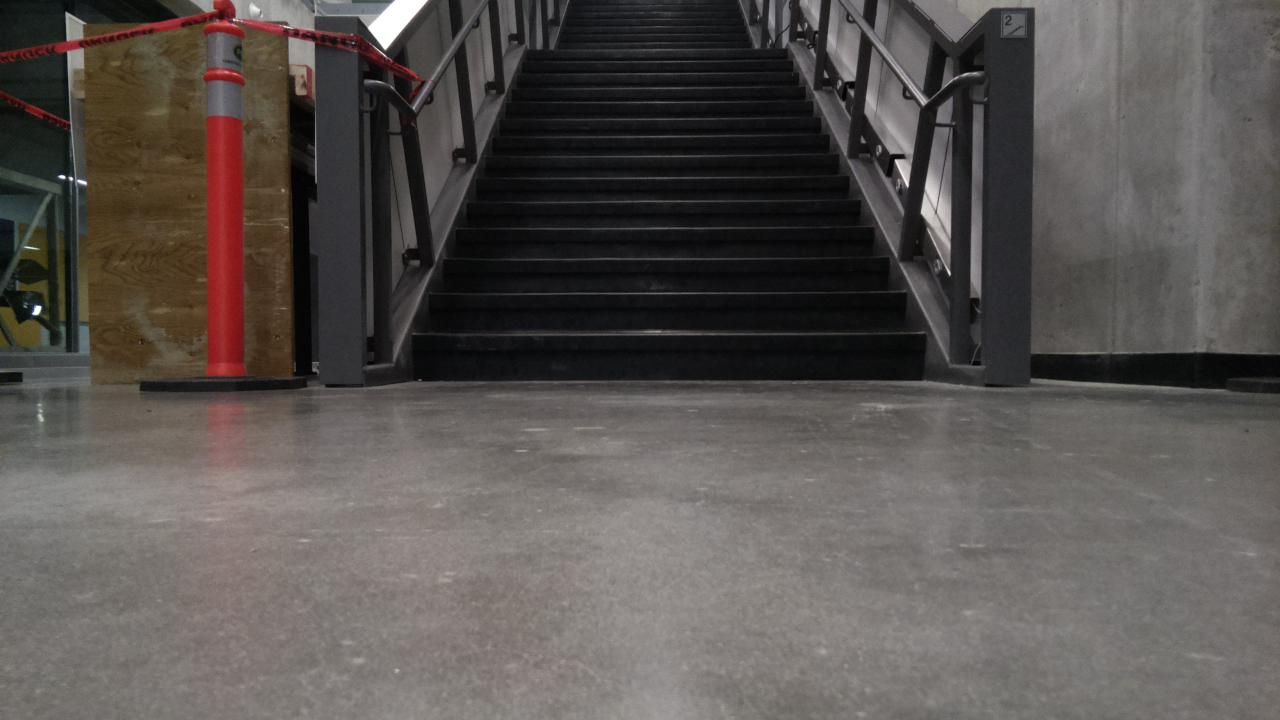stair: (410, 0, 928, 382)
